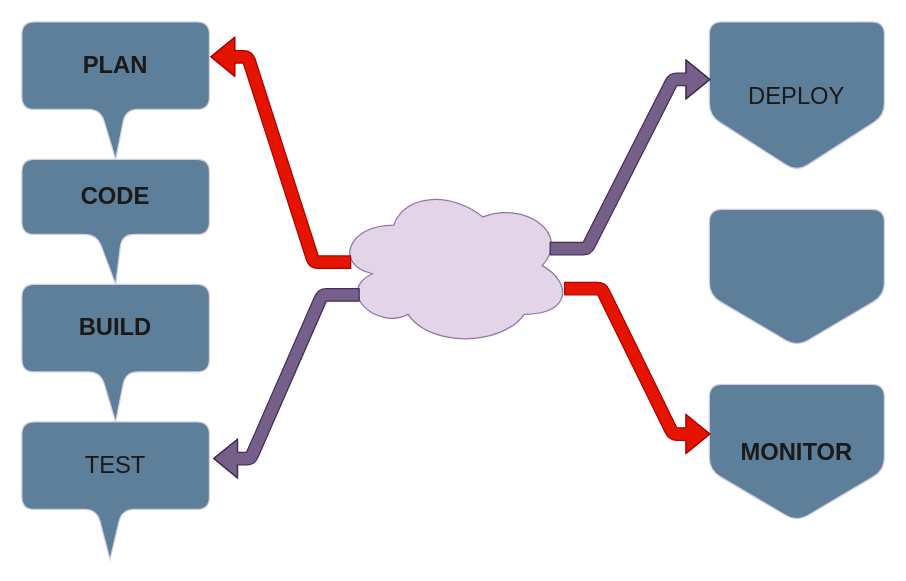
Image size: 906x581. Some labels were removed from this diagram. Here are the shapes that lost their labels. From the top down, the centre of each, then its label:
At point 452,265: "INTEGRATION".
At point 796,277: "OPERATE".
